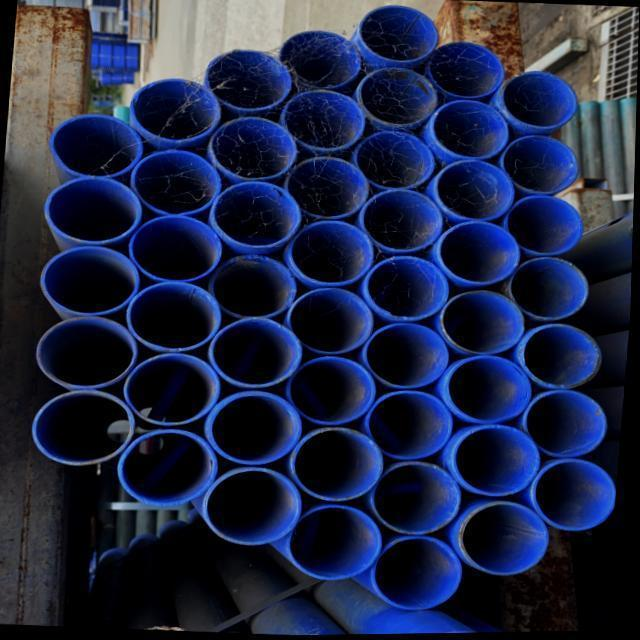pipe: (115, 426, 228, 514), (28, 387, 142, 471), (203, 465, 311, 551), (31, 313, 147, 393), (35, 242, 149, 319), (457, 499, 562, 582), (288, 424, 394, 506), (205, 389, 311, 471), (371, 533, 474, 616), (288, 503, 392, 585), (447, 420, 549, 502), (123, 351, 229, 429), (119, 72, 225, 149), (368, 459, 470, 539), (207, 314, 311, 392), (39, 174, 147, 247), (126, 279, 231, 354), (364, 386, 463, 465), (285, 353, 385, 431), (520, 388, 620, 465), (127, 213, 230, 287), (208, 178, 309, 252), (45, 107, 146, 180), (530, 457, 622, 537), (283, 286, 382, 360), (282, 218, 382, 291), (128, 146, 228, 219), (441, 353, 538, 428), (437, 287, 533, 361), (203, 45, 301, 117), (363, 319, 458, 393), (208, 112, 305, 184), (207, 249, 303, 321), (361, 252, 457, 324), (350, 0, 447, 70), (433, 218, 526, 290), (283, 151, 375, 222), (357, 187, 450, 257), (281, 86, 374, 156), (519, 322, 609, 393), (275, 25, 368, 93), (430, 159, 523, 226), (506, 255, 595, 325), (558, 211, 635, 291), (497, 67, 586, 136), (426, 99, 516, 164), (504, 192, 591, 259), (424, 38, 512, 103), (351, 129, 440, 193), (352, 69, 442, 132), (499, 131, 584, 196)
